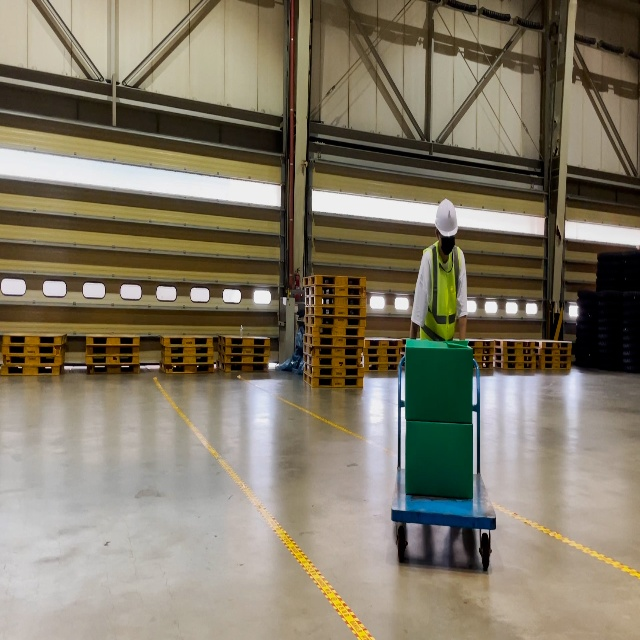Box: (405, 338, 472, 424), (405, 421, 473, 500)
Worker: (410, 197, 469, 341)
